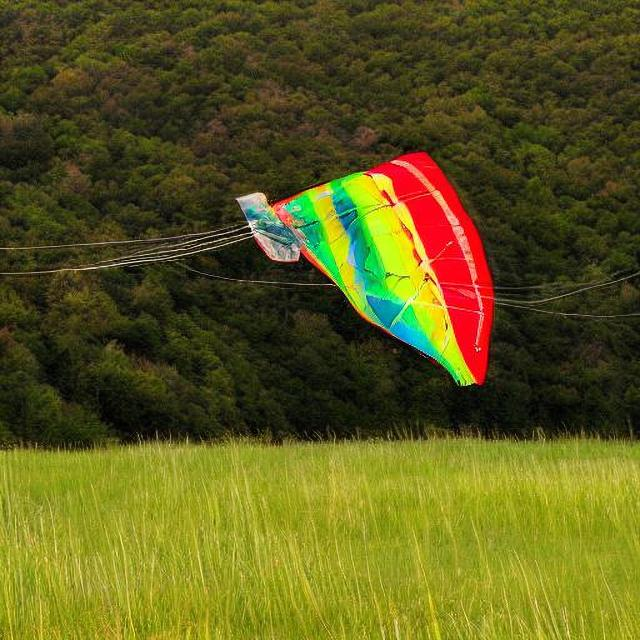floating object: (242, 149, 498, 384)
